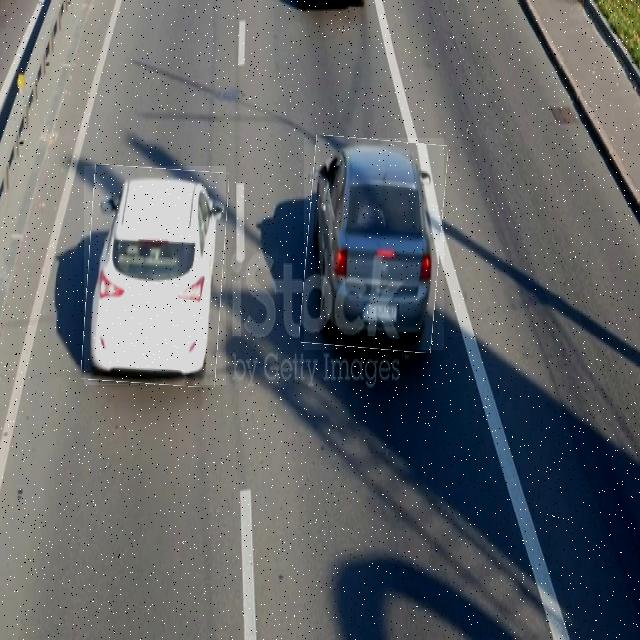Car: (84, 166, 226, 385), (304, 138, 444, 350)
